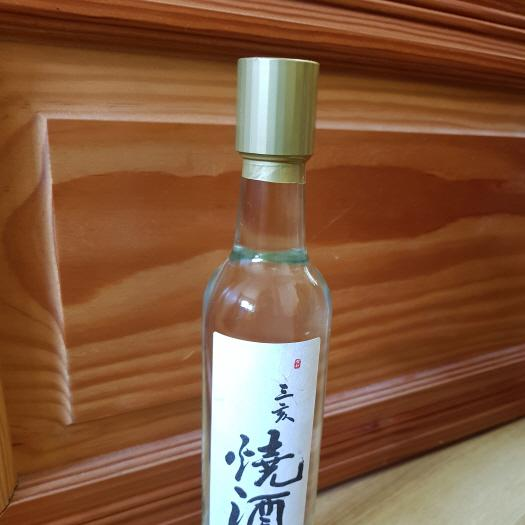soju: (190, 50, 337, 525)
